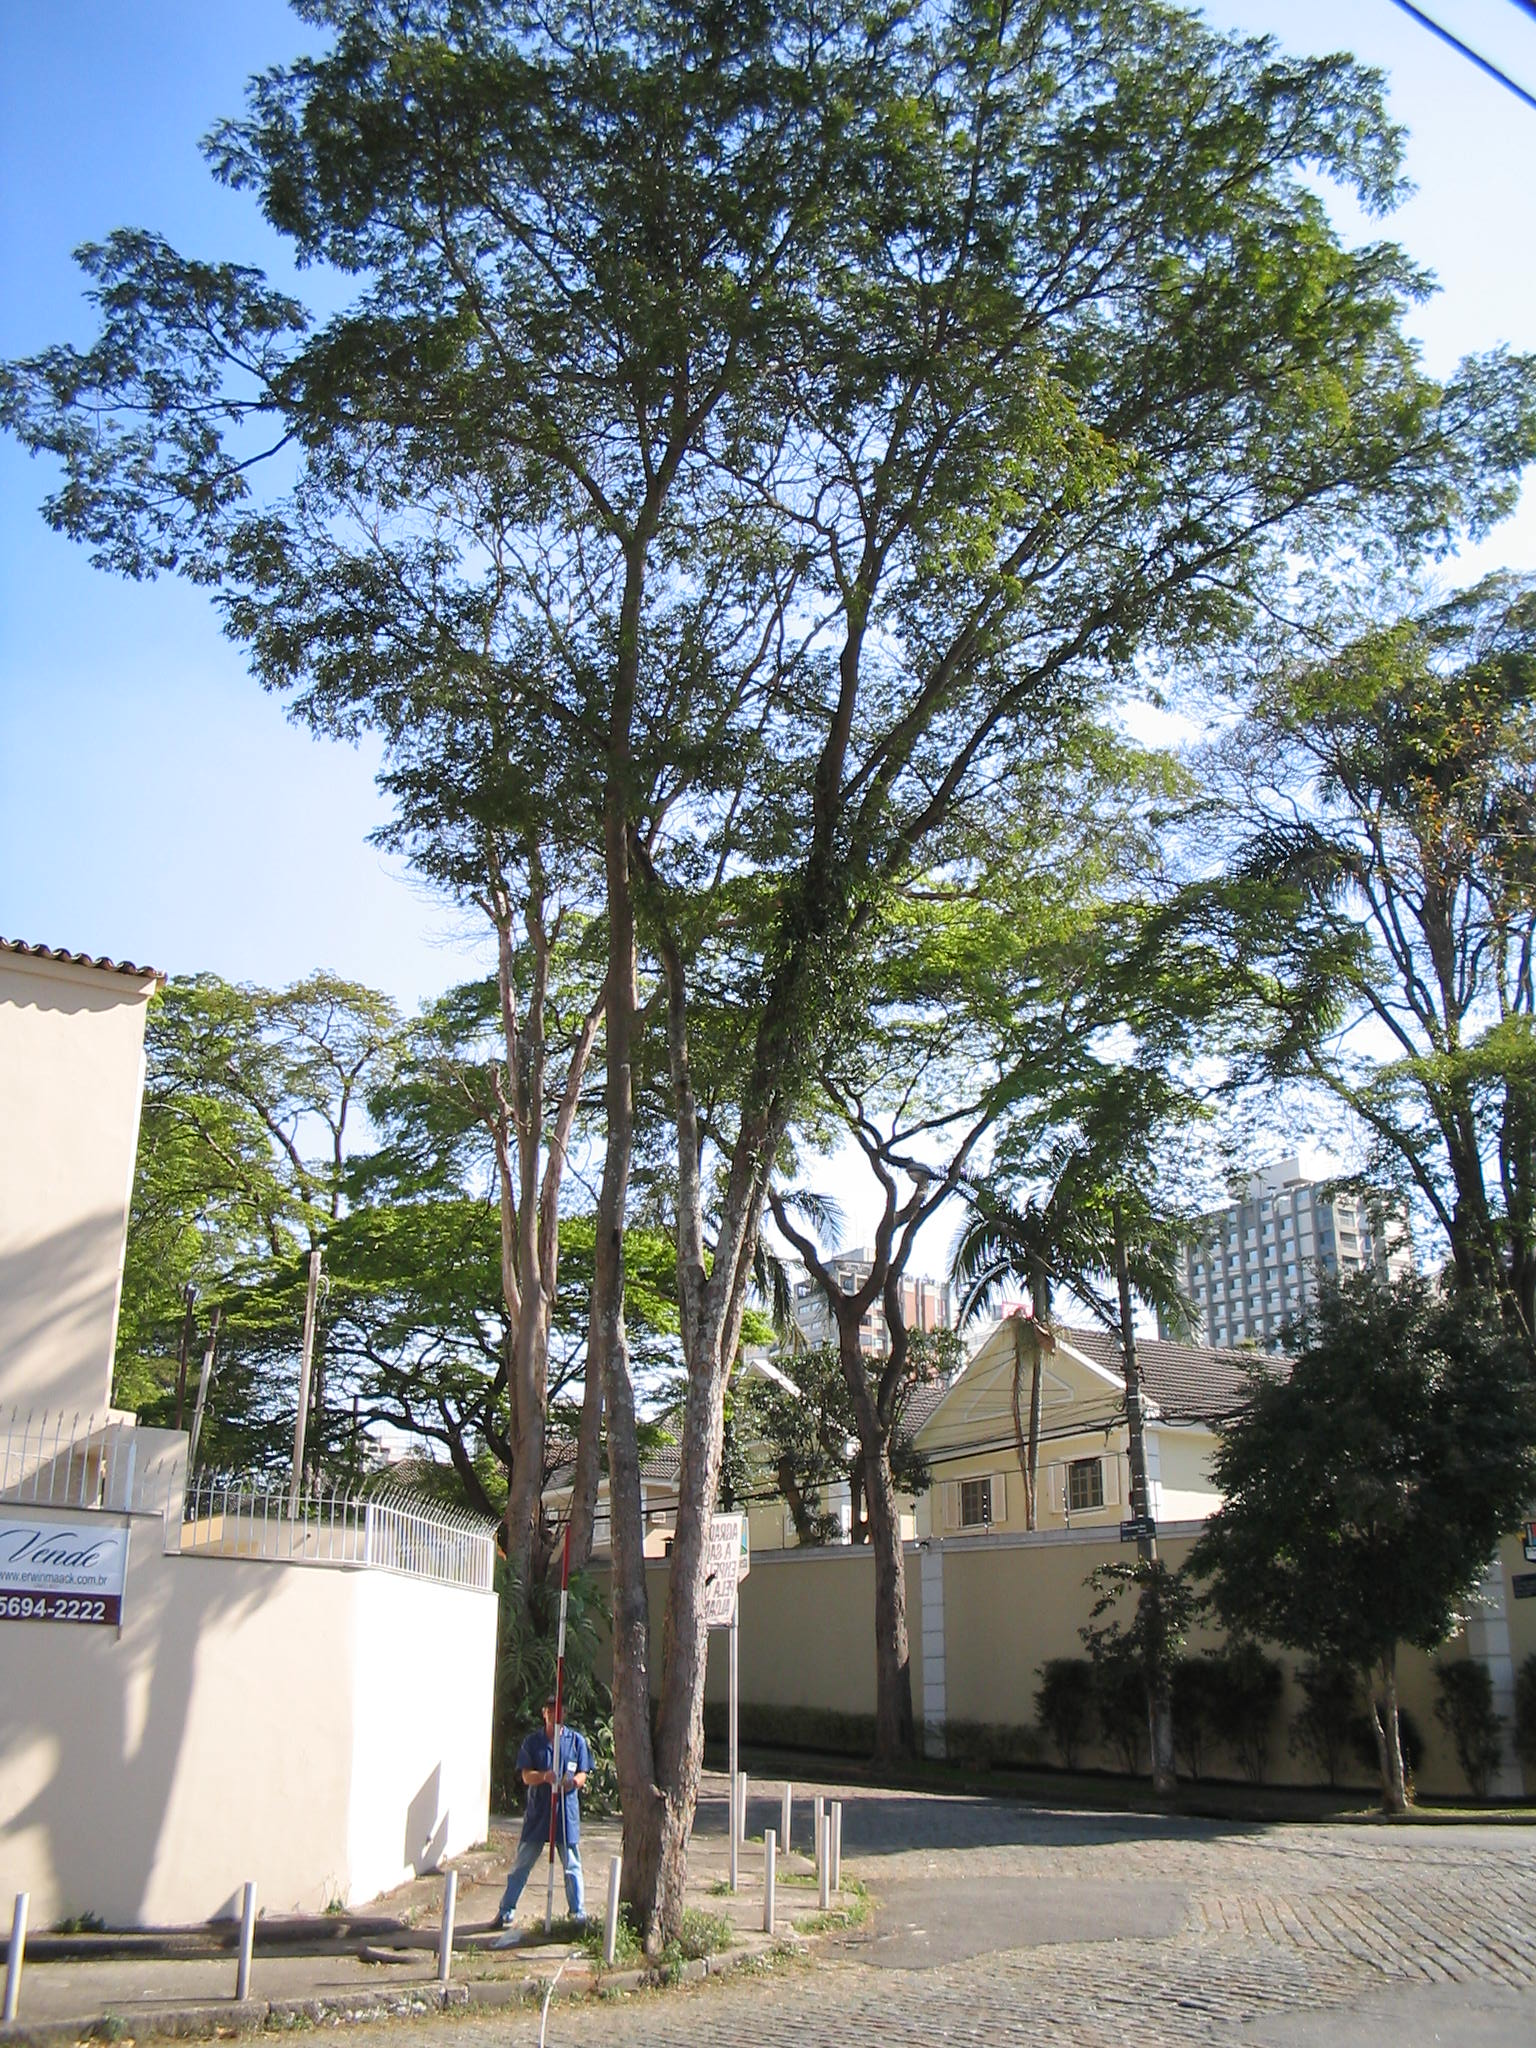crown: (198, 11, 1449, 1137), (1167, 1268, 1528, 1705)
stem: (839, 1442, 944, 1766), (595, 1750, 720, 1954)
stick: (531, 1516, 581, 1934)
tree: (190, 3, 1452, 1954), (1162, 1261, 1536, 1813)
